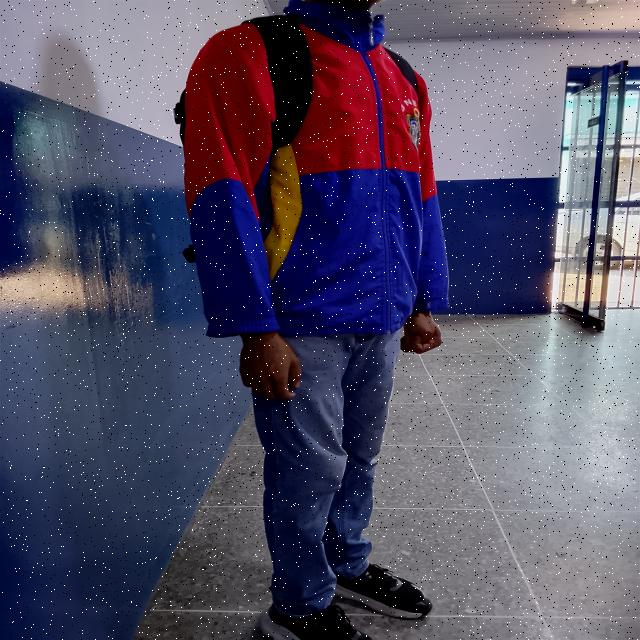chaqueta_unefa: (181, 0, 451, 339)
